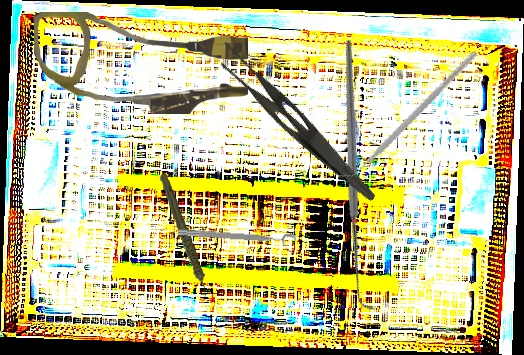Cannula: (34, 12, 248, 114)
Chopper: (336, 27, 478, 202)
Dressing Forceps: (206, 39, 392, 203)
Fixation Ring: (177, 225, 297, 254)
Handpiece: (158, 169, 209, 305)
Hook Surgical: (237, 36, 481, 313)
